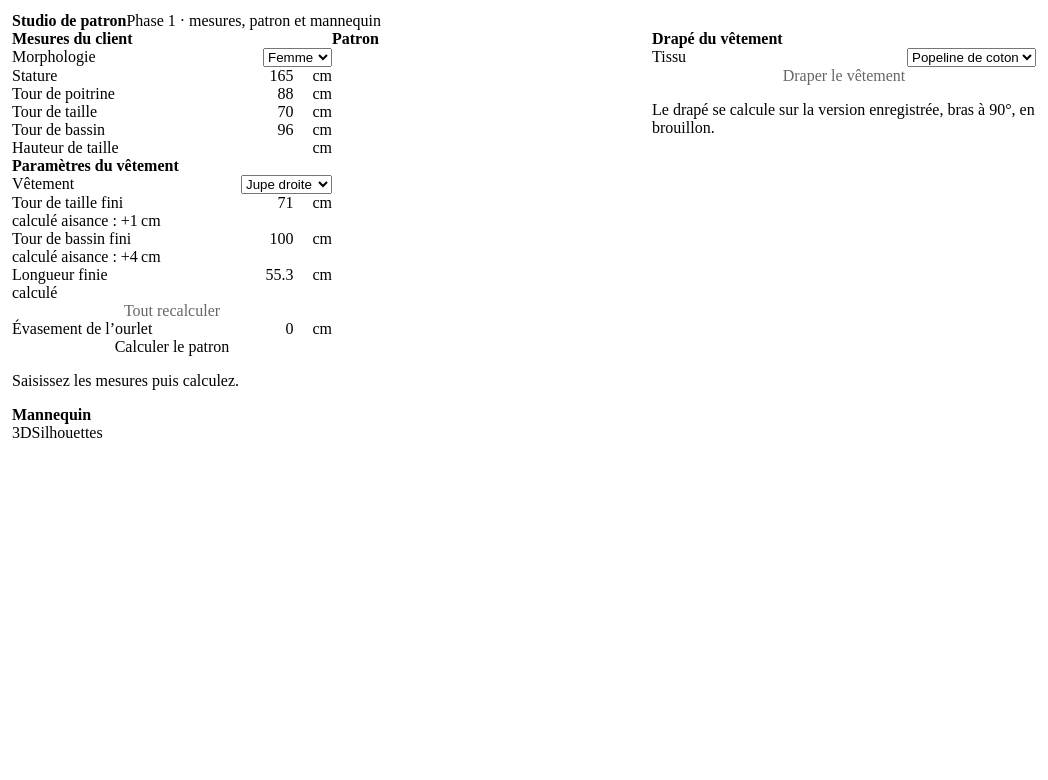
Scenario: panneau Drapé de l’onglet Patron › bouton actif une fois la version enregistrée
Click the button "Calculer le patron": (172, 347) x1=12 y1=338 x2=332 y2=356
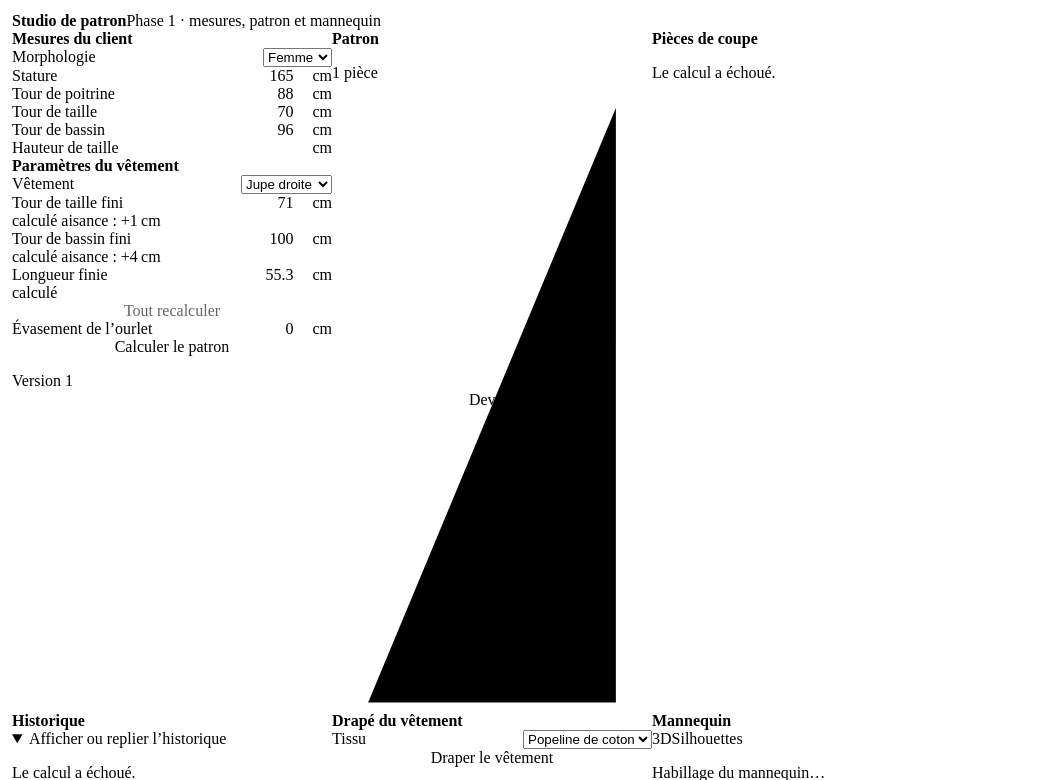
Now the text "Version 1" is shown, box x1=12 y1=372 x2=73 y2=389
Now the button "Draper le vêtement" is enabled, box x1=332 y1=749 x2=652 y2=767
